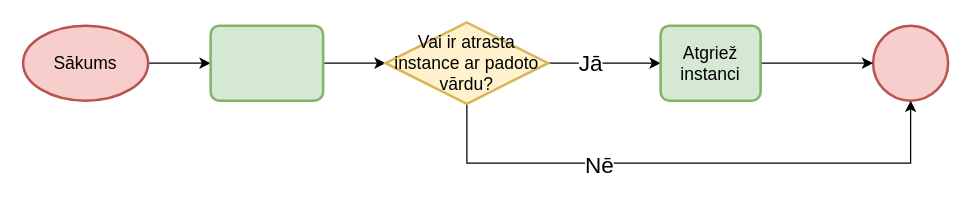
Image size: 970x200. Some labels were removed from this diagram. The shapes that lost their labels are listed below. From the top down, each one's box as (x1, y1, x2, y2) in pixels, then its label:
(209, 24, 324, 101): Atrod instanci pec vārda
(871, 24, 949, 101): Beigas
